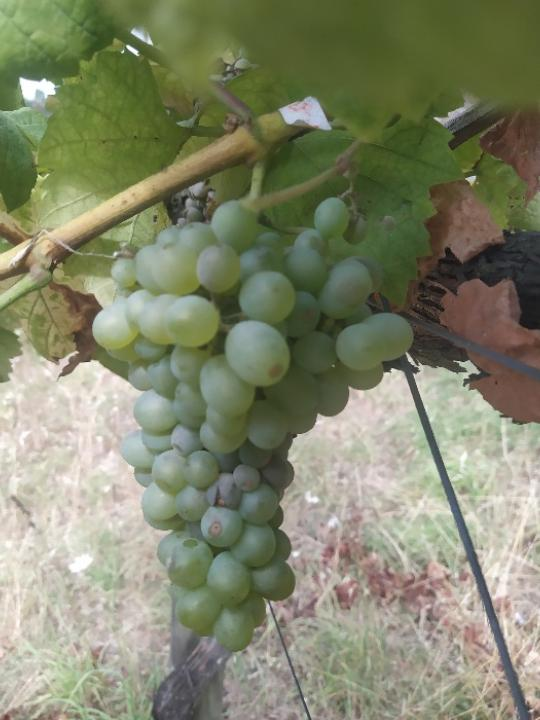grape: (89, 192, 416, 654)
